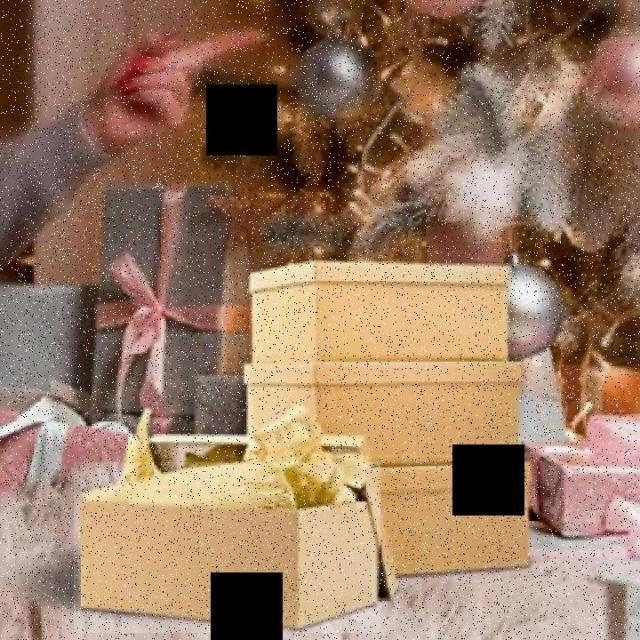box: (74, 462, 380, 633), (239, 252, 535, 366), (238, 354, 524, 454), (351, 458, 550, 578)
